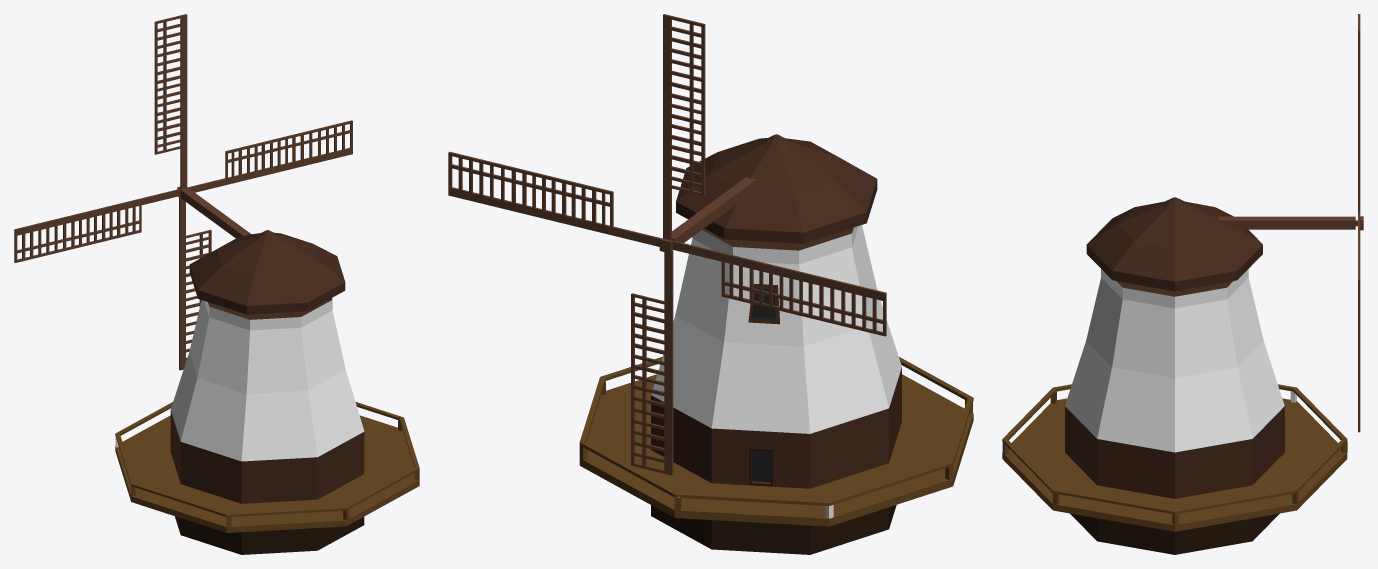
The model's file is windmill_with_textures.fbx.
The picture shows the model from 3 angles, left to right: view 1: azimuth 30°, elevation 25°; view 2: azimuth 150°, elevation 25°; view 3: azimuth 270°, elevation 25°; orthographic projection. The views are drawn at different scales.
Parts seen in each view (by area): view 1: Circle, Circle.001; view 2: Circle, Circle.001; view 3: Circle, Circle.001.
Boxes of the visible parts, x1,y1,x2,y2 form: Circle: [115, 230, 419, 554]; Circle.001: [14, 14, 352, 370]; Circle: [579, 134, 973, 554]; Circle.001: [448, 14, 886, 475]; Circle: [1002, 197, 1347, 554]; Circle.001: [1217, 14, 1363, 432].
Size of the model in its own units: 389 by 481 by 329.
2 materials, 2 textured.
